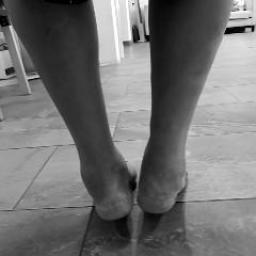Back View -Both Feet-: (55, 110, 210, 230)
